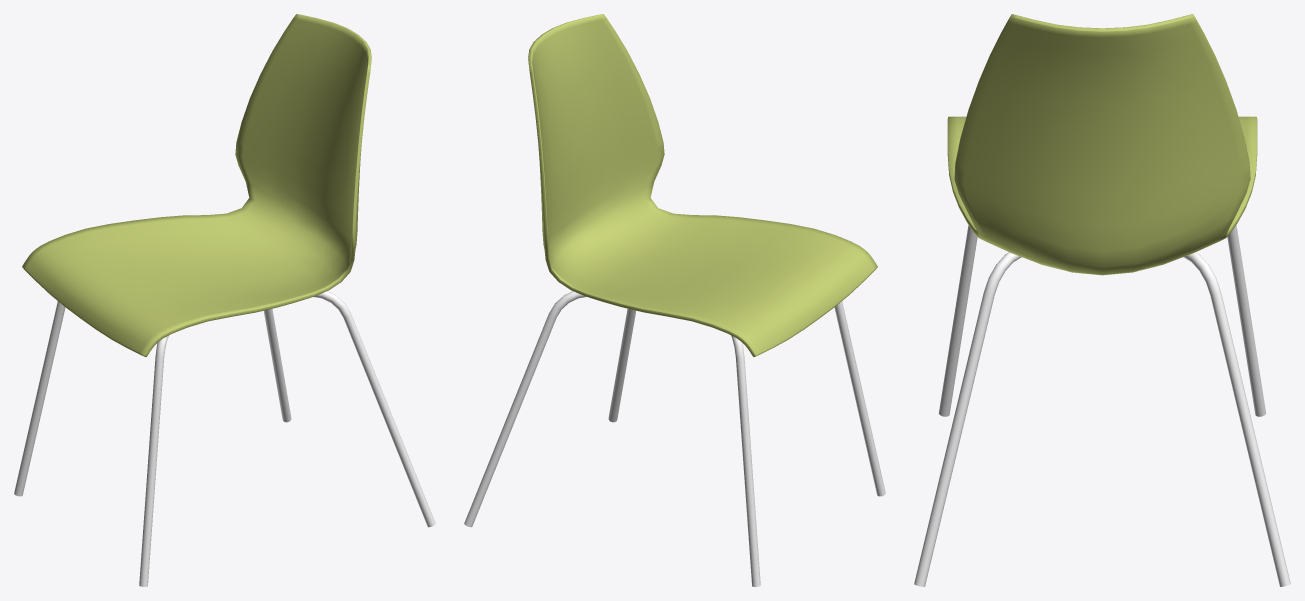
The model's file is 109 stol lys grøn.obj.
3 renders of one model, left to right at view 1: azimuth 30°, elevation 25°; view 2: azimuth 150°, elevation 25°; view 3: azimuth 270°, elevation 25°, orthographic. The views are drawn at different scales.
Parts seen in each view (by area): view 1: furniture_megapack_1821, furniture_megapack_1822, furniture_megapack_1823; view 2: furniture_megapack_1821, furniture_megapack_1823, furniture_megapack_1822; view 3: furniture_megapack_1821, furniture_megapack_1822, furniture_megapack_1823.
Boxes of the visible parts, x1,y1,x2,y2 form: furniture_megapack_1821: (22,14,371,356); furniture_megapack_1822: (14,291,435,527); furniture_megapack_1823: (139,309,291,586); furniture_megapack_1821: (528,14,877,356); furniture_megapack_1823: (464,291,885,527); furniture_megapack_1822: (608,309,760,586); furniture_megapack_1821: (947,14,1257,275); furniture_megapack_1822: (914,225,1266,586); furniture_megapack_1823: (938,225,1290,586).
Bounding box in the file's own units: 55.24 × 81.28 × 49.86.
